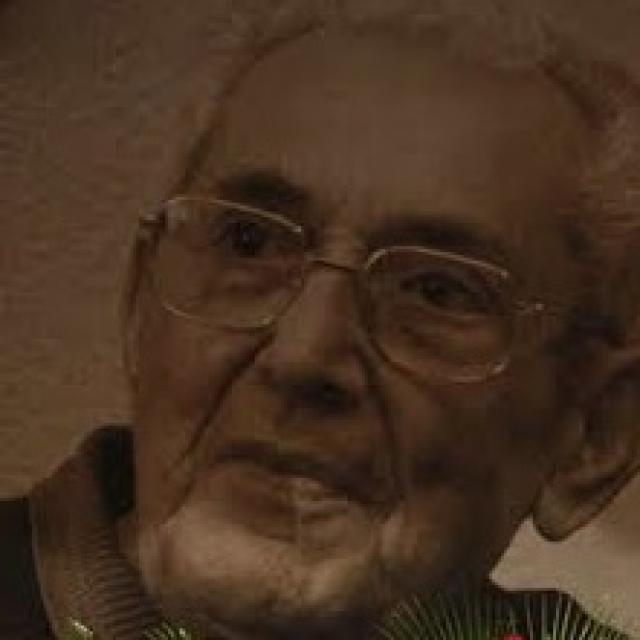Depress: (127, 23, 585, 631)
